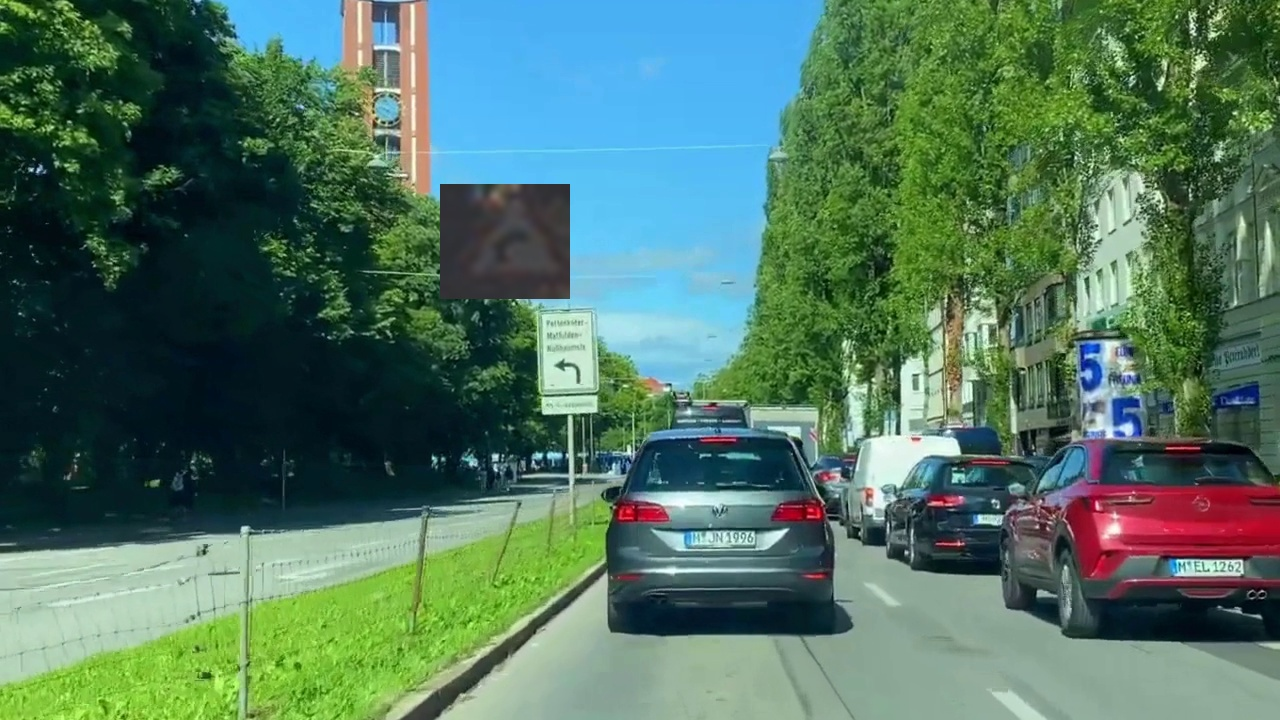Curve right: (440, 184, 570, 299)
